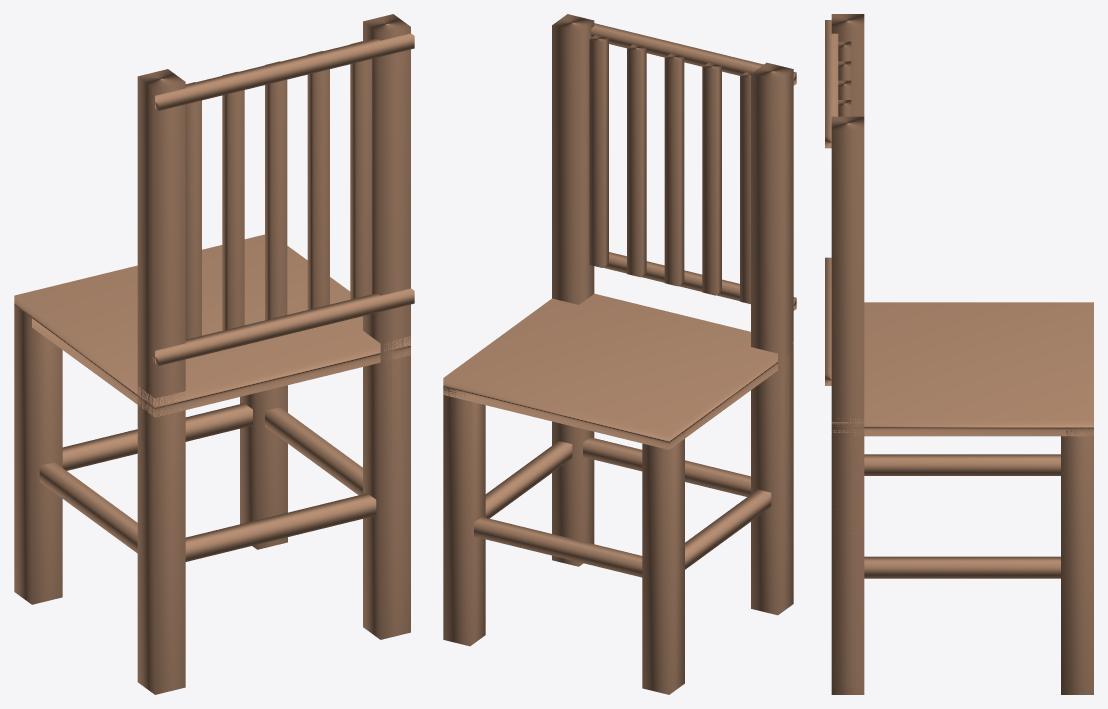
3 views of the same model, side by side, from view 1: azimuth 30°, elevation 25°; view 2: azimuth 150°, elevation 25°; view 3: azimuth 270°, elevation 25° (orthographic). The views are drawn at different scales.
Visible parts, largest first — view 1: Seat, Cube.004, Cube.005, Leg_3, Leg_1, Leg_2, Leg_0, Cube.011, Cube.008, Cube.009, Cube.010, Bottom_Back_Rail (+6 smaller); view 2: Seat, Cube.004, Cube.005, Leg_1, Leg_0, Leg_3, Cube.009, Cube.010, Cube.008, Cube.011, Leg_2, Cube (+6 smaller); view 3: Seat, Cube.005, Leg_0, Cube.002, Cube.003, Cube.004, Leg_2, Cube.006, Bottom_Back_Rail.
Boxes of the visible parts, left/top/right/bottom form: Seat: left=14, top=234, right=410, bottom=417; Cube.004: left=137, top=69, right=185, bottom=693; Cube.005: left=363, top=14, right=410, bottom=638; Leg_3: left=137, top=397, right=185, bottom=694; Leg_1: left=14, top=305, right=62, bottom=604; Leg_2: left=363, top=349, right=410, bottom=639; Leg_0: left=240, top=385, right=287, bottom=549; Cube.011: left=350, top=40, right=372, bottom=299; Cube.008: left=222, top=71, right=244, bottom=330; Cube.009: left=265, top=61, right=287, bottom=320; Cube.010: left=307, top=51, right=329, bottom=309; Bottom_Back_Rail: left=152, top=288, right=414, bottom=365; Seat: left=443, top=293, right=793, bottom=449; Cube.004: left=751, top=62, right=793, bottom=614; Cube.005: left=552, top=14, right=594, bottom=566; Leg_1: left=642, top=431, right=684, bottom=694; Leg_0: left=443, top=386, right=485, bottom=646; Leg_3: left=751, top=351, right=793, bottom=615; Cube.009: left=664, top=53, right=684, bottom=286; Cube.010: left=627, top=44, right=646, bottom=277; Cube.008: left=702, top=62, right=721, bottom=295; Cube.011: left=589, top=35, right=608, bottom=267; Leg_2: left=552, top=421, right=594, bottom=566; Cube: left=474, top=517, right=642, bottom=577; Seat: left=831, top=302, right=1093, bottom=436; Cube.005: left=831, top=116, right=864, bottom=694; Leg_0: left=1061, top=427, right=1093, bottom=694; Cube.002: left=864, top=556, right=1060, bottom=578; Cube.003: left=864, top=454, right=1060, bottom=475; Cube.004: left=831, top=14, right=864, bottom=116; Leg_2: left=831, top=427, right=864, bottom=694; Cube.006: left=825, top=20, right=838, bottom=148; Bottom_Back_Rail: left=825, top=257, right=831, bottom=385.
Bounding box in the file's own units: 0.42 × 0.95 × 0.41.
